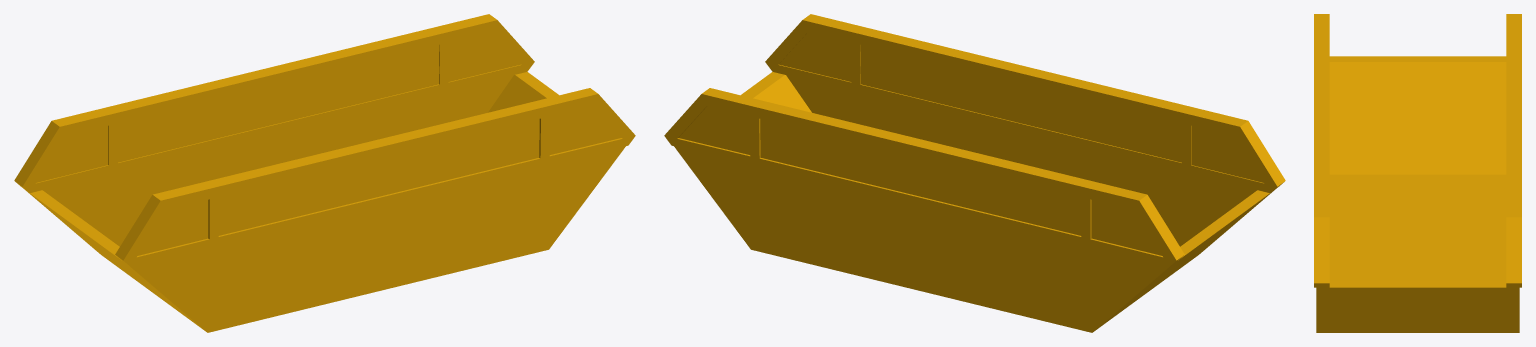
File: Skip.fbx
The picture shows the model from 3 angles, left to right: view 1: azimuth 30°, elevation 25°; view 2: azimuth 150°, elevation 25°; view 3: azimuth 270°, elevation 25°; orthographic projection. The views are drawn at different scales.
Visible parts, largest first — view 1: Skip; view 2: Skip; view 3: Skip.
Part boxes in pixels (left/top/right/bottom): Skip: left=14, top=14, right=635, bottom=332; Skip: left=664, top=14, right=1285, bottom=332; Skip: left=1314, top=14, right=1521, bottom=332.
Bounding box in the file's own units: 551 × 203 × 149.
